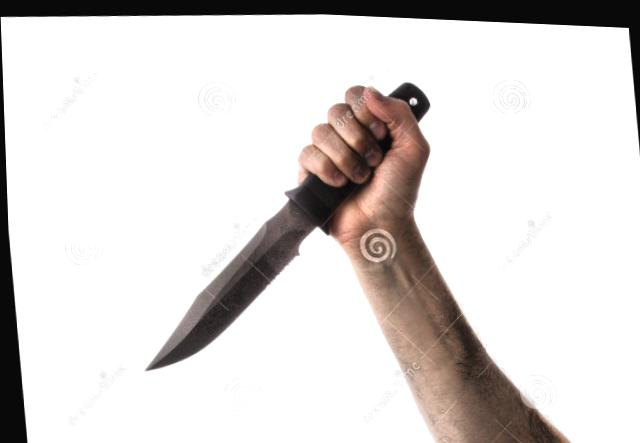knife: (112, 105, 408, 388)
